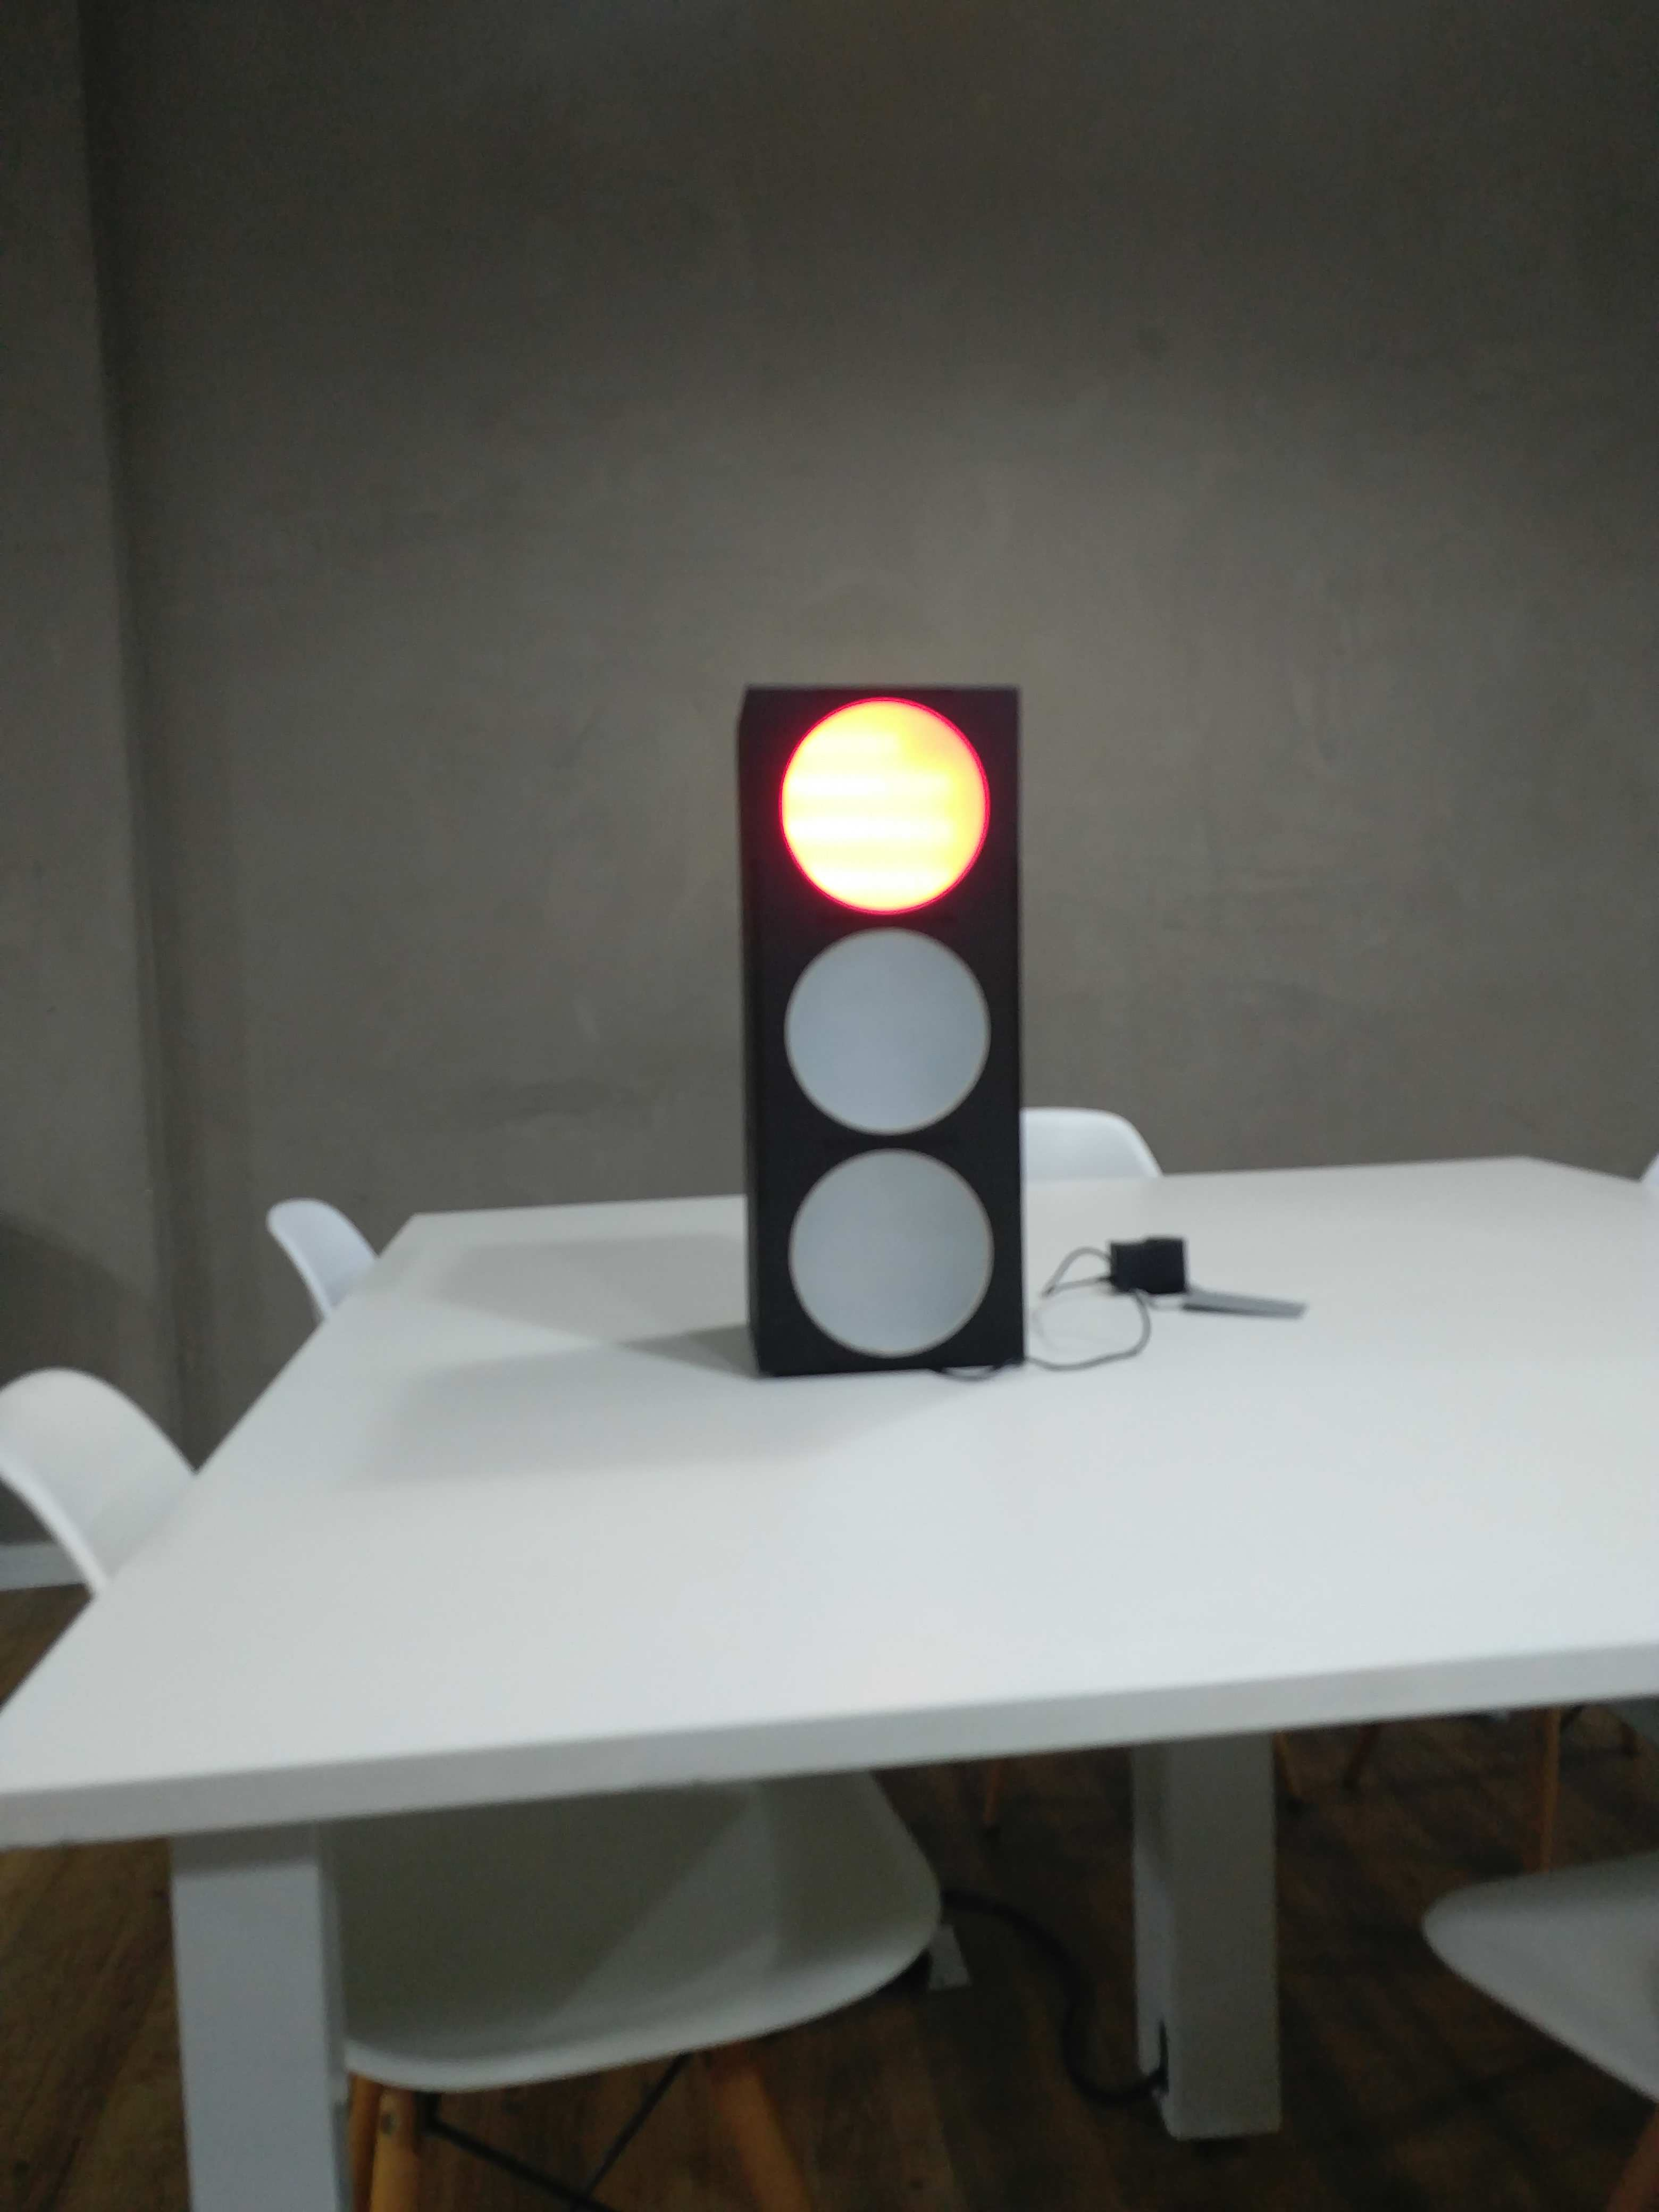stop: (732, 679, 1028, 1374)
